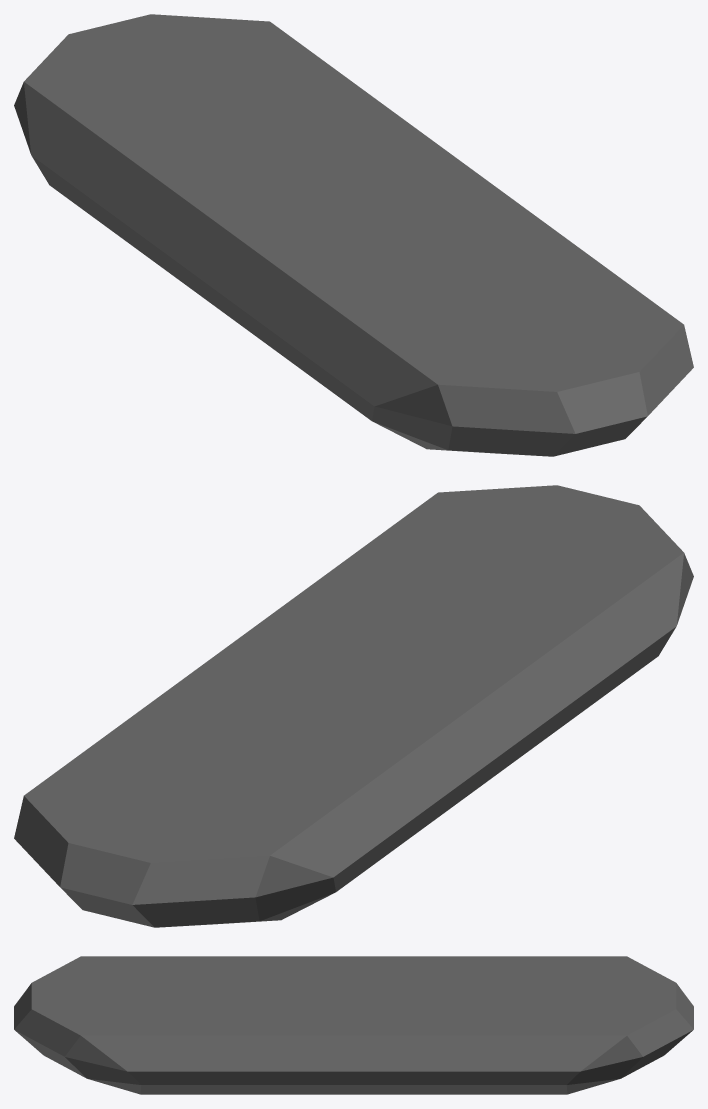
File: TVRemote.fbx
3 renders of one model, top to bottom at view 1: azimuth 30°, elevation 25°; view 2: azimuth 150°, elevation 25°; view 3: azimuth 270°, elevation 25°, orthographic. The views are drawn at different scales.
Parts seen in each view (by area): view 1: TVRemote; view 2: TVRemote; view 3: TVRemote.
Part boxes in pixels (left/top/right/bottom): TVRemote: left=14, top=14, right=693, bottom=456; TVRemote: left=14, top=485, right=693, bottom=927; TVRemote: left=14, top=956, right=693, bottom=1094.
Bounding box in the file's own units: 0.0529 × 0.0177 × 0.1563.
Materials: 1 (1 with a texture image).
